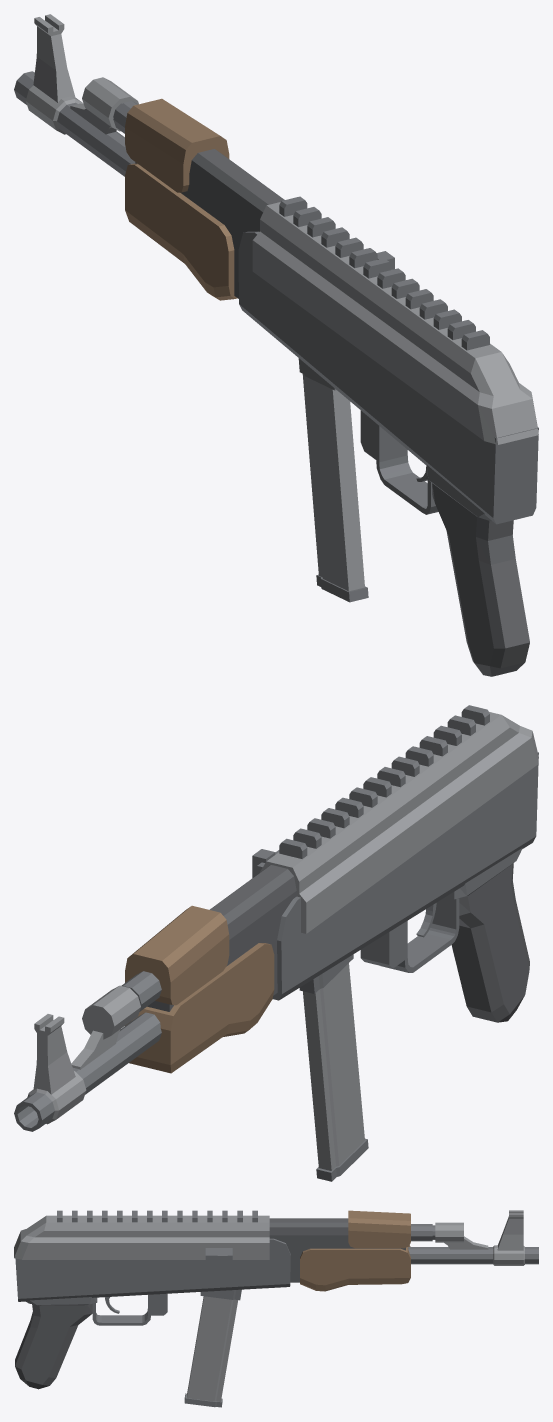
3 views of the same model, one above another, from view 1: azimuth 30°, elevation 25°; view 2: azimuth 150°, elevation 25°; view 3: azimuth 270°, elevation 25° (orthographic). The views are drawn at different scales.
Visible parts, largest first — view 1: body, mag; view 2: body, mag; view 3: body, mag, charge.
Boxes of the visible parts, bbox=[...] form: body: bbox=[14, 14, 538, 676]; mag: bbox=[298, 358, 368, 602]; body: bbox=[14, 705, 538, 1131]; mag: bbox=[299, 954, 368, 1181]; body: bbox=[14, 1210, 538, 1389]; mag: bbox=[184, 1289, 241, 1407]; charge: bbox=[205, 1248, 232, 1271].
Bounding box in the file's own units: 0.0553 × 0.2041 × 0.503.
